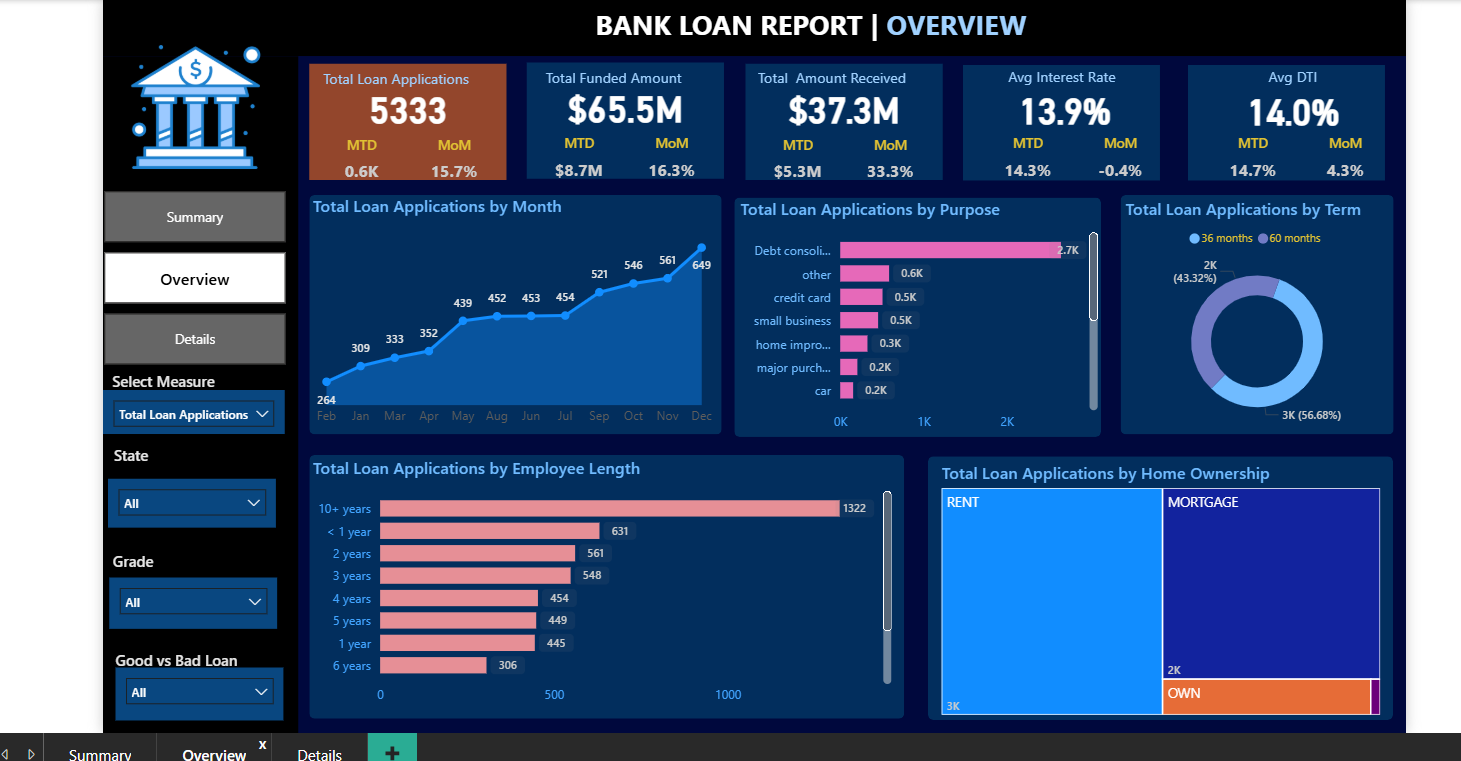

What the dashboard file says about the page in this screenshot:
{"tool":"powerbi","page":{"name":"Overview","canvas":[1280,720],"ordinal":1},"visuals":[{"type":"shape","box":[0,0,1280,55],"z":0},{"type":"shape","box":[416.6,61.2,193.9,114.1],"z":0,"group":"g3"},{"type":"shape","box":[202.5,62.5,193.9,114.1],"z":0,"group":"g2"},{"type":"shape","box":[630.6,62.9,193.9,114.1],"z":0,"group":"g4"},{"type":"shape","box":[844.7,63.3,193.3,113.3],"z":1000,"group":"g5"},{"type":"shape","box":[1065,63.3,193.3,113.3],"z":1000,"group":"g6"},{"type":"card","fields":{"Values":["Bank_loan_data.Total Funded Amount"]},"box":[431.3,77.2,164.4,54],"z":1000,"group":"g3"},{"type":"card","fields":{"Values":["Bank_loan_data.Total Loan Applications"]},"box":[217.2,78.5,164.4,54],"z":1000,"group":"g2"},{"type":"card","fields":{"Values":["Bank_loan_data.Total Amount Received"]},"box":[645.3,78.8,164.4,54],"z":1000,"group":"g4"},{"type":"shape","box":[202.5,191.2,405,235],"z":1000},{"type":"shape","box":[0,55,191.7,665],"z":2000},{"type":"textbox","box":[416.6,61.2,170.6,31.9],"z":2000,"group":"g3"},{"type":"textbox","box":[630.6,61.2,170,31.7],"z":2000,"group":"g4"},{"type":"textbox","box":[202.5,62.5,170.6,31.9],"z":2000,"group":"g2"},{"type":"textbox","box":[471.2,1.2,472.4,54],"z":3000},{"type":"card","fields":{"Values":["Bank_loan_data.Avg Interest Rate"]},"box":[863,80,163.3,53.3],"z":3000,"group":"g5"},{"type":"card","fields":{"Values":["Bank_loan_data.Avg DTI"]},"box":[1087.2,81.2,162.5,53.8],"z":3000,"group":"g6"},{"type":"card","title":"MTD","fields":{"Values":["Bank_loan_data.MTD Funded Amount"]},"box":[422.7,131.1,90.8,57.7],"z":3000,"group":"g3"},{"type":"card","title":"MTD","fields":{"Values":["Bank_loan_data.MTD Loan Applications"]},"box":[208.6,132.4,90.8,57.7],"z":3000,"group":"g2"},{"type":"card","title":"MTD","fields":{"Values":["Bank_loan_data.MTD Total Amount Received"]},"box":[636.7,132.8,90.8,57.7],"z":3000,"group":"g4"},{"type":"group","id":"g1","title":"Group 1","box":[202.5,62.5,193.8,127.5],"z":4000},{"type":"card","title":"MoM","fields":{"Values":["Bank_loan_data.MoM Total Funded Amount"]},"box":[513.5,131.1,90.8,57.7],"z":4000,"group":"g3"},{"type":"card","title":"MoM","fields":{"Values":["Bank_loan_data.MoM Loan Application"]},"box":[299.4,132.4,90.8,57.7],"z":4000,"group":"g2"},{"type":"card","title":"MoM","fields":{"Values":["Bank_loan_data.MoM Total Amount Received"]},"box":[727.5,132.8,90.8,57.7],"z":4000,"group":"g4"},{"type":"group","id":"g2","title":"Group 2","box":[202.5,62.5,193.9,127.6],"z":4005,"group":"g1"},{"type":"textbox","box":[856.4,60,170,31.7],"z":5000,"group":"g5"},{"type":"textbox","box":[1076.7,60,170,31.7],"z":5000,"group":"g6"},{"type":"group","id":"g3","title":"Group 2","box":[416.6,61.2,193.8,128.8],"z":5000},{"type":"group","id":"g4","title":"Group 3","box":[630.6,61.2,193.8,130],"z":6000},{"type":"card","title":"MTD","fields":{"Values":["Bank_loan_data.MTD Avg Int Rate"]},"box":[862.5,131.6,90.8,57.7],"z":6000,"group":"g5"},{"type":"card","title":"MTD","fields":{"Values":["Bank_loan_data.MTD Avg DTI"]},"box":[1082.8,131.6,90.8,57.7],"z":6000,"group":"g6"},{"type":"group","id":"g5","title":"Group 4","box":[844.7,60,200,128.8],"z":7000},{"type":"card","title":"MoM","fields":{"Values":["Bank_loan_data.MoM Avg Int Rate"]},"box":[953.3,131.6,90.8,57.7],"z":7000,"group":"g5"},{"type":"card","title":"MoM","fields":{"Values":["Bank_loan_data.MoM Avg DTI"]},"box":[1173.6,131.6,90.8,57.7],"z":7000,"group":"g6"},{"type":"group","id":"g6","title":"Group 4","box":[1065,60,200,128.8],"z":8000},{"type":"slicer","fields":{"Values":["Bank_loan_data.address_state"]},"box":[5,470,165,48.3],"z":9000},{"type":"textbox","box":[0,431.7,63.3,43.3],"z":10000},{"type":"slicer","fields":{"Values":["Bank_loan_data.grade"]},"box":[6.7,566.7,165,50],"z":11000},{"type":"slicer","fields":{"Values":["Bank_loan_data.Good  vs Bad Loan"]},"box":[11.7,655,165,51.7],"z":12000},{"type":"textbox","box":[0,536.7,63.3,43.3],"z":13000},{"type":"textbox","box":[0,633.3,148.3,43.3],"z":14000},{"type":"areaChart","fields":{"Y":["Bank_loan_data.Total Loan Applications"],"Category":["Date Table.Month"]},"box":[201.7,190,405,236.7],"z":15000},{"type":"slicer","fields":{"Values":["Select Measure.Select Measure"]},"box":[0,383.3,178.3,43.3],"z":16000},{"type":"textbox","box":[0,360,126.7,43.3],"z":17000},{"type":"shape","box":[620,193.3,360,235],"z":18000},{"type":"shape","box":[998.3,191.7,268.3,235],"z":19000},{"type":"donutChart","fields":{"Y":["Bank_loan_data.Total Loan Applications"],"Category":["Bank_loan_data.term"]},"box":[998.3,193.3,268.3,233.3],"z":20000},{"type":"shape","box":[202.5,446.6,584.1,258.9],"z":21000},{"type":"barChart","fields":{"Y":["Bank_loan_data.Total Loan Applications"],"Category":["Bank_loan_data.emp_length"]},"box":[201.2,447.9,577.9,252.8],"z":22000},{"type":"barChart","fields":{"Y":["Bank_loan_data.Total Loan Applications"],"Category":["Bank_loan_data.purpose"]},"box":[620.9,193.9,360.7,238],"z":24000},{"type":"shape","box":[809.8,447.9,456.4,258.9],"z":25000},{"type":"treemap","fields":{"Values":["Bank_loan_data.Total Loan Applications"],"Group":["Bank_loan_data.home_ownership"]},"box":[818.4,452.8,440.5,254],"z":26000},{"type":"pageNavigator","box":[1.7,188.3,178.3,171.7],"z":27000},{"type":"image","box":[10,30,161.7,151.7],"z":28000}]}

Visuals, with their boxes on the page's 1280x720 design canvas (x1, y1, x2, y2). These are canvas units, not pixel positions in the 1461x761 screenshot, which may show the page scaled, cropped or inside an application window:
shape: [left=0, top=0, right=1280, bottom=55]
shape: [left=417, top=61, right=610, bottom=175]
shape: [left=202, top=62, right=396, bottom=177]
shape: [left=631, top=63, right=824, bottom=177]
shape: [left=845, top=63, right=1038, bottom=177]
shape: [left=1065, top=63, right=1258, bottom=177]
card - Bank_loan_data.Total Funded Amount: [left=431, top=77, right=596, bottom=131]
card - Bank_loan_data.Total Loan Applications: [left=217, top=78, right=382, bottom=132]
card - Bank_loan_data.Total Amount Received: [left=645, top=79, right=810, bottom=133]
shape: [left=202, top=191, right=608, bottom=426]
shape: [left=0, top=55, right=192, bottom=720]
textbox: [left=417, top=61, right=587, bottom=93]
textbox: [left=631, top=61, right=801, bottom=93]
textbox: [left=202, top=62, right=373, bottom=94]
textbox: [left=471, top=1, right=944, bottom=55]
card - Bank_loan_data.Avg Interest Rate: [left=863, top=80, right=1026, bottom=133]
card - Bank_loan_data.Avg DTI: [left=1087, top=81, right=1250, bottom=135]
"MTD" card: [left=423, top=131, right=514, bottom=189]
"MTD" card: [left=209, top=132, right=299, bottom=190]
"MTD" card: [left=637, top=133, right=728, bottom=190]
"Group 1" group: [left=202, top=62, right=396, bottom=190]
"MoM" card: [left=514, top=131, right=604, bottom=189]
"MoM" card: [left=299, top=132, right=390, bottom=190]
"MoM" card: [left=728, top=133, right=818, bottom=190]
"Group 2" group: [left=202, top=62, right=396, bottom=190]
textbox: [left=856, top=60, right=1026, bottom=92]
textbox: [left=1077, top=60, right=1247, bottom=92]
"Group 2" group: [left=417, top=61, right=610, bottom=190]
"Group 3" group: [left=631, top=61, right=824, bottom=191]
"MTD" card: [left=862, top=132, right=953, bottom=189]
"MTD" card: [left=1083, top=132, right=1174, bottom=189]
"Group 4" group: [left=845, top=60, right=1045, bottom=189]
"MoM" card: [left=953, top=132, right=1044, bottom=189]
"MoM" card: [left=1174, top=132, right=1264, bottom=189]
"Group 4" group: [left=1065, top=60, right=1265, bottom=189]
slicer - Bank_loan_data.address_state: [left=5, top=470, right=170, bottom=518]
textbox: [left=0, top=432, right=63, bottom=475]
slicer - Bank_loan_data.grade: [left=7, top=567, right=172, bottom=617]
slicer - Bank_loan_data.Good  vs Bad Loan: [left=12, top=655, right=177, bottom=707]
textbox: [left=0, top=537, right=63, bottom=580]
textbox: [left=0, top=633, right=148, bottom=677]
areaChart - Bank_loan_data.Total Loan Applications x Date Table.Month: [left=202, top=190, right=607, bottom=427]
slicer - Select Measure.Select Measure: [left=0, top=383, right=178, bottom=427]
textbox: [left=0, top=360, right=127, bottom=403]
shape: [left=620, top=193, right=980, bottom=428]
shape: [left=998, top=192, right=1267, bottom=427]
donutChart - Bank_loan_data.Total Loan Applications x Bank_loan_data.term: [left=998, top=193, right=1267, bottom=427]
shape: [left=202, top=447, right=787, bottom=706]
barChart - Bank_loan_data.Total Loan Applications x Bank_loan_data.emp_length: [left=201, top=448, right=779, bottom=701]
barChart - Bank_loan_data.Total Loan Applications x Bank_loan_data.purpose: [left=621, top=194, right=982, bottom=432]
shape: [left=810, top=448, right=1266, bottom=707]
treemap - Bank_loan_data.Total Loan Applications x Bank_loan_data.home_ownership: [left=818, top=453, right=1259, bottom=707]
pageNavigator: [left=2, top=188, right=180, bottom=360]
image: [left=10, top=30, right=172, bottom=182]
